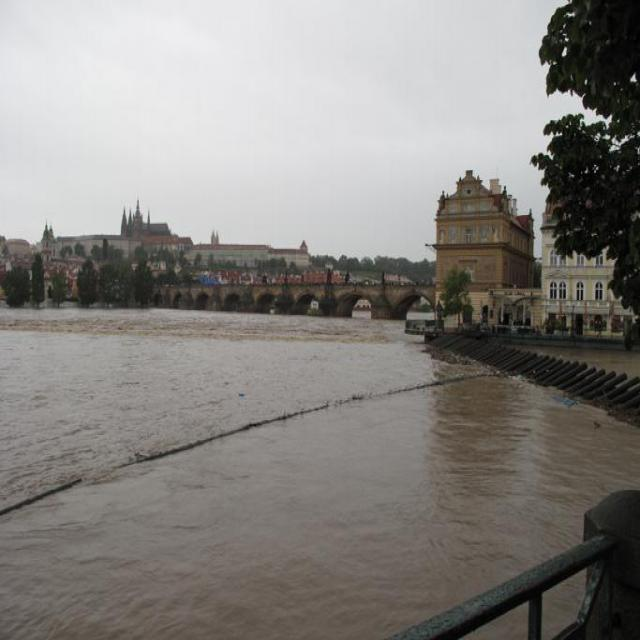flood: (0, 297, 630, 633)
